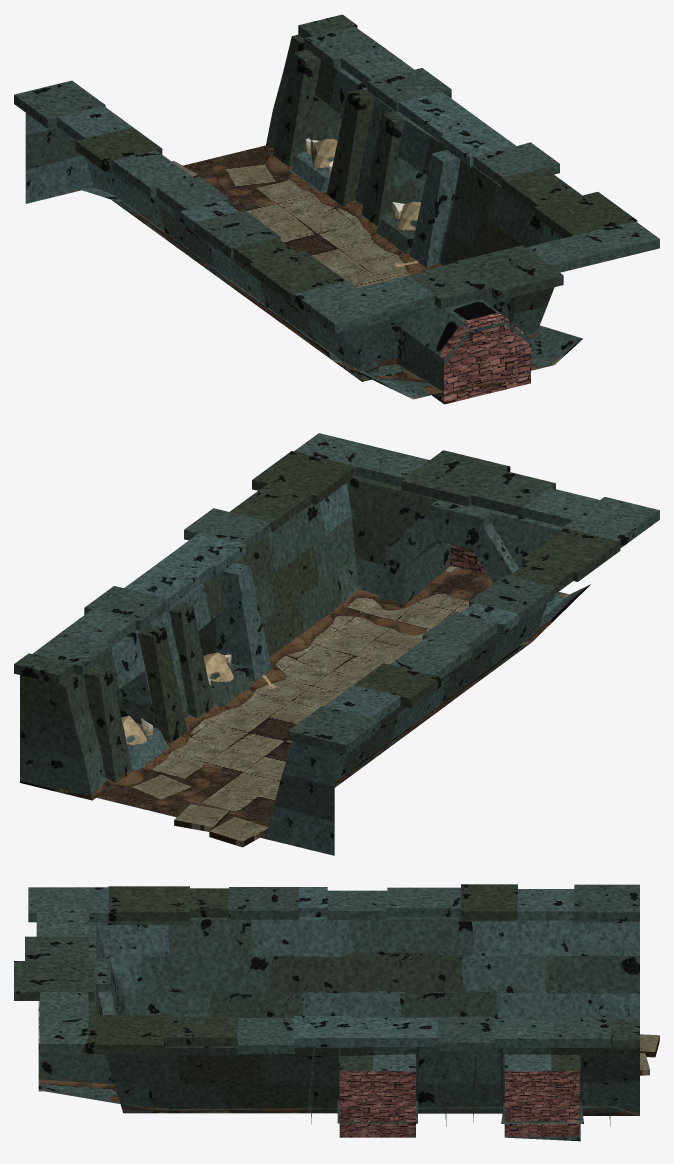
Rendered from start a.fbx.
3 views of the same model, one above another, from view 1: azimuth 30°, elevation 25°; view 2: azimuth 150°, elevation 25°; view 3: azimuth 270°, elevation 25° (orthographic). The views are drawn at different scales.
Visible parts, largest first — view 1: start a LP; view 2: start a LP; view 3: start a LP.
Boxes of the visible parts, x1,y1,x2,y2 form: start a LP: (14, 14, 659, 404); start a LP: (14, 433, 659, 855); start a LP: (14, 884, 659, 1141).
Size of the model in its own units: 951 by 310 by 1615.
